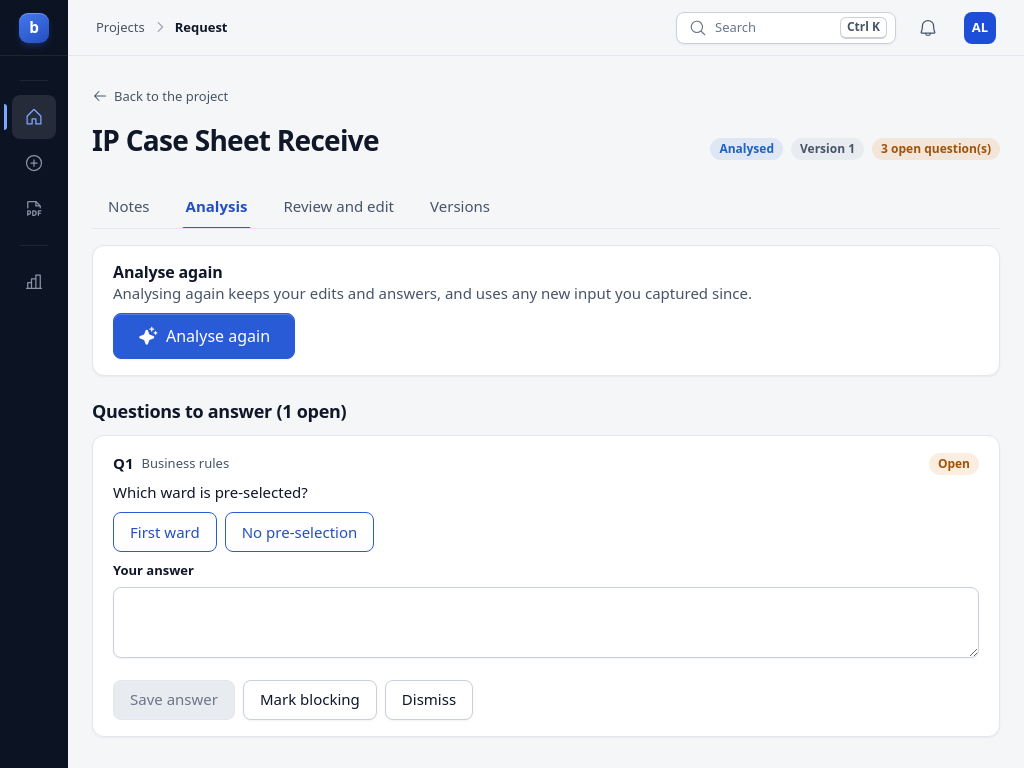
it: analysis › shows the open questions, fills the answer from a suggestion and saves it
The image size is (1024, 768).
Expected: the heading "Questions to answer (1 open)" is shown, [92,399,346,423]
Expected: the button "Save answer" is disabled, [113,680,235,720]
What coordinates should you click on to do the following:
click the button "First ward"
I would click on:
 (165, 532)
Its box is [113,512,217,552].
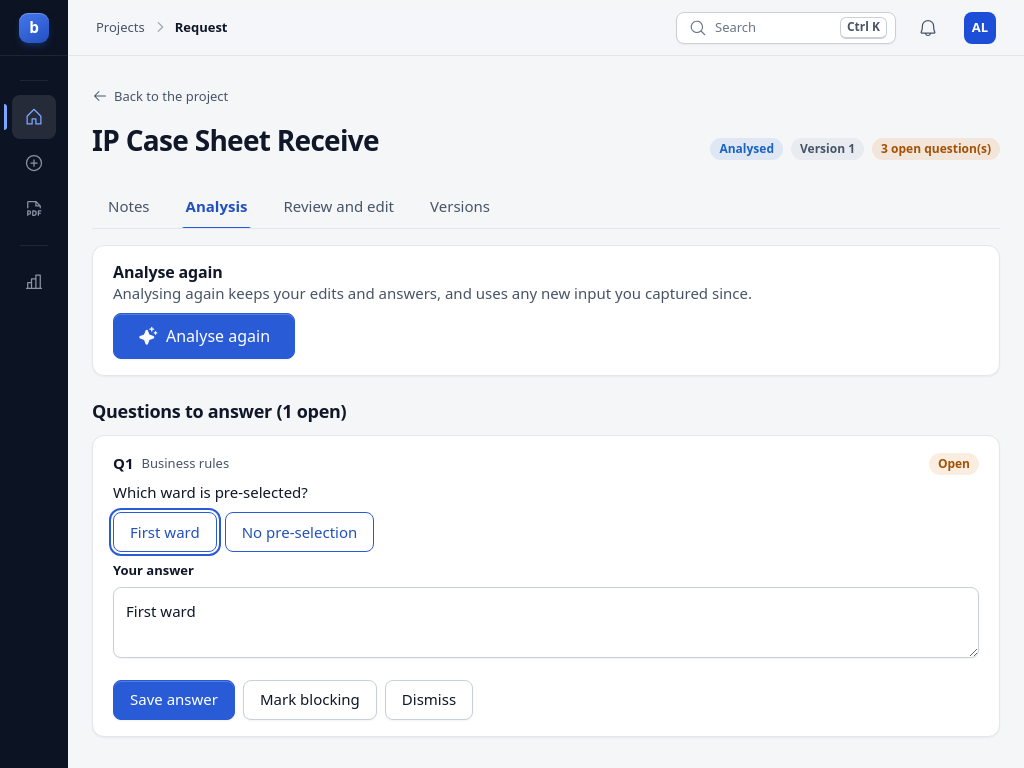
Now the text box labelled "Your answer" holds "First ward", box [113,587,979,658]
What coordinates should you click on to do the following:
click the button "Save answer"
I would click on:
 (174, 700)
Its box is [113,680,235,720].
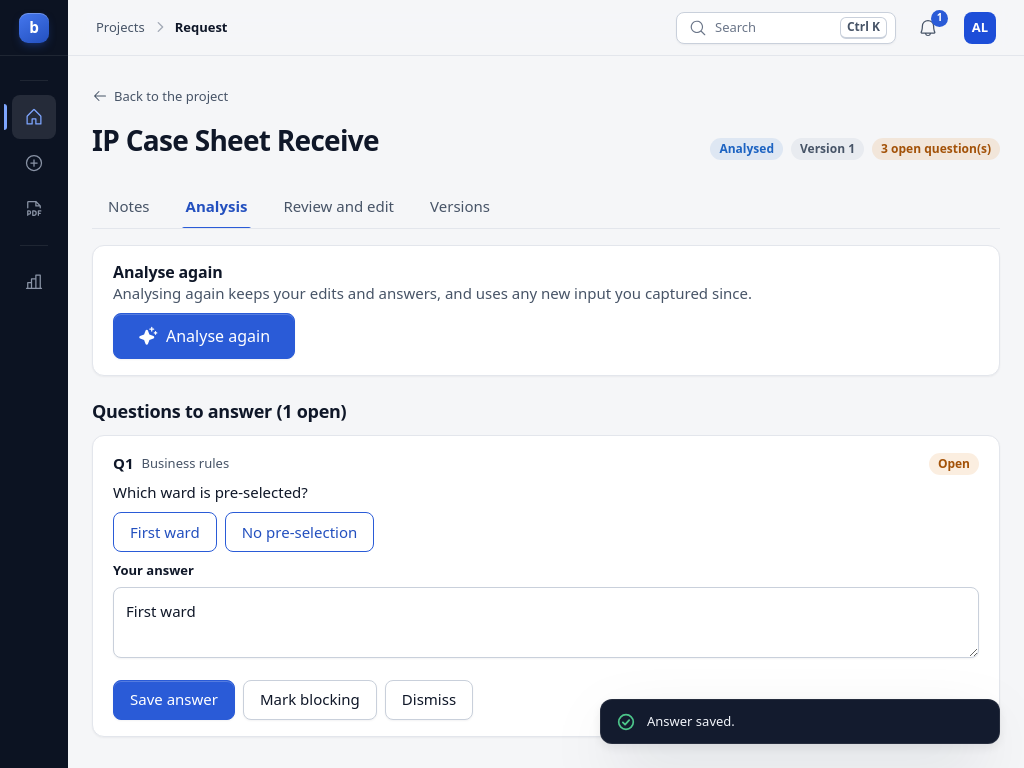
Now the text "Answer saved." is shown, box [647,712,735,730]
